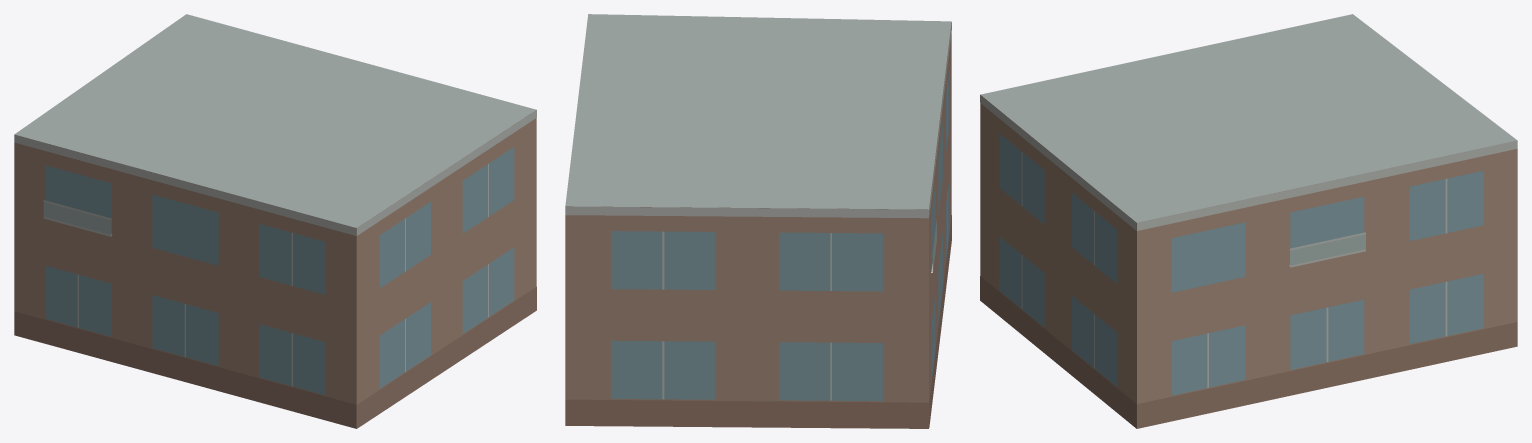
Rendered from survey-upis-32944651.glb.
3 renders of one model, left to right at view 1: azimuth 30°, elevation 25°; view 2: azimuth 150°, elevation 25°; view 3: azimuth 270°, elevation 25°, orthographic. The views are drawn at different scales.
Parts seen in each view (by area): view 1: survey-upis-32944651.tmp; view 2: survey-upis-32944651.tmp; view 3: survey-upis-32944651.tmp.
Part boxes in pixels (x1,y1,x2,y2): survey-upis-32944651.tmp: (14,14,536,428); survey-upis-32944651.tmp: (565,14,951,428); survey-upis-32944651.tmp: (980,14,1517,428).
Bounding box in the file's own units: 13.27 × 6.1 × 14.43.
